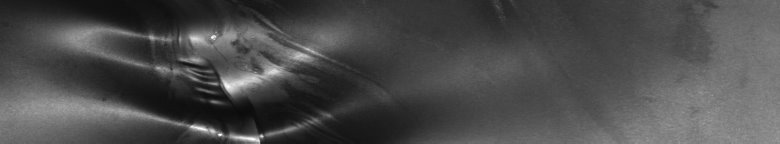ke: (84, 15, 337, 136)
